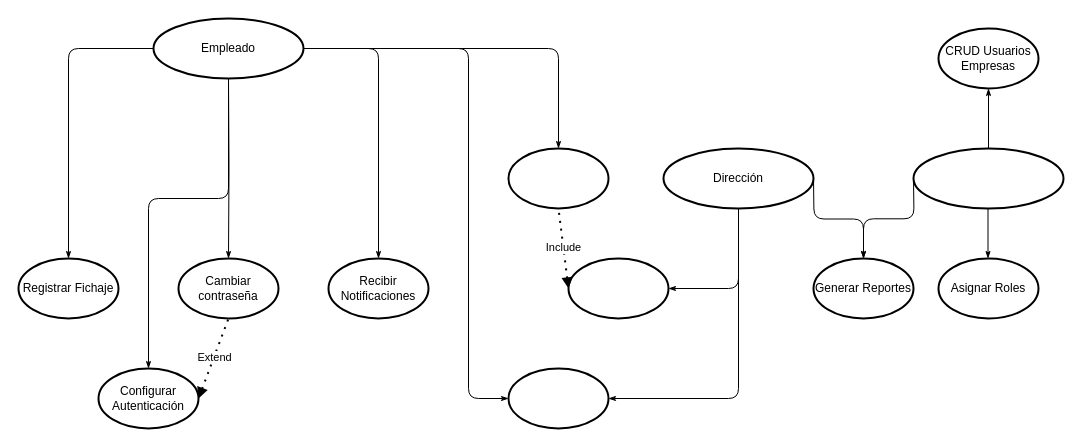
The diagram is 1081 pixels wide and 446 high, and some of its shapes have lost their labels. Here are the shapes that lost their labels. From the top down, the box of each, then its label:
(507, 147, 609, 209): Solicitar Horas Extras
(912, 147, 1064, 209): Administrador
(567, 257, 669, 319): Validar Horas Extras
(507, 367, 609, 429): Consultar Fichajes
